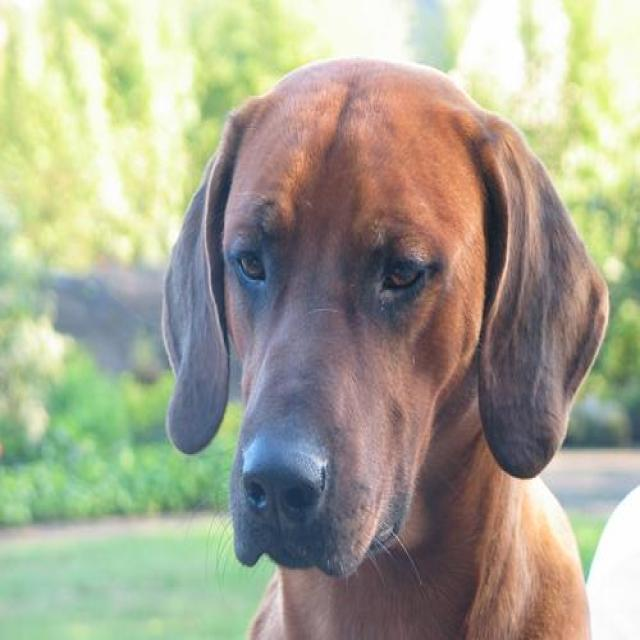rhodesian_ridgeback: (159, 55, 612, 638)
